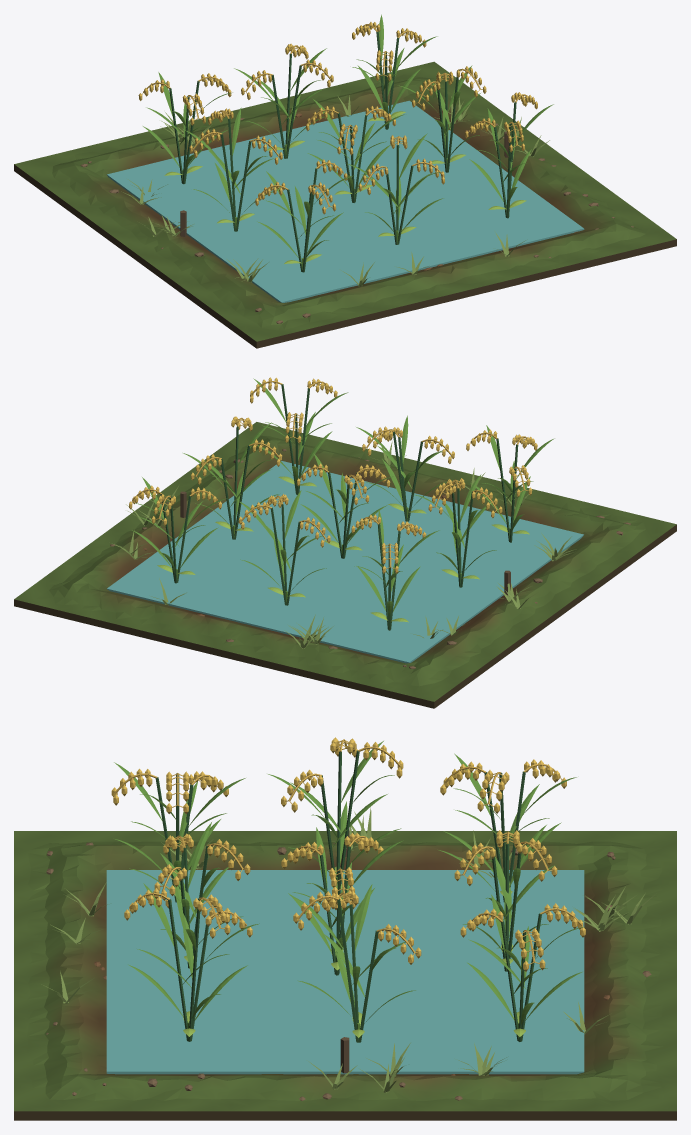
Rendered from rice-paddy.glb.
3 renders of one model, top to bottom at view 1: azimuth 30°, elevation 25°; view 2: azimuth 150°, elevation 25°; view 3: azimuth 270°, elevation 25°, orthographic. The views are drawn at different scales.
Visible parts, largest first — view 1: Static_mesh; view 2: Static_mesh; view 3: Static_mesh.
Boxes of the visible parts, x1,y1,x2,y2 form: Static_mesh: [14, 61, 676, 348]; Static_mesh: [14, 422, 676, 708]; Static_mesh: [14, 828, 676, 1120].
Size of the model in its own units: 3.5 by 0.9692 by 3.5.
